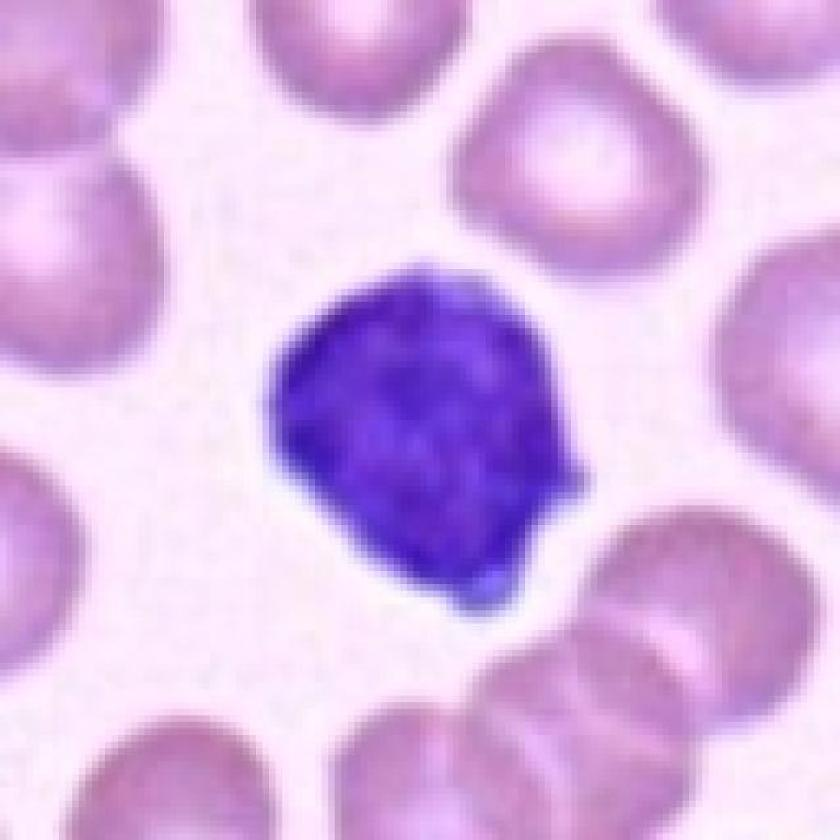lymphocyte: (249, 260, 597, 615)
